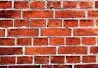brick: (54, 9, 87, 18), (40, 27, 73, 36), (21, 9, 53, 18), (58, 45, 88, 54), (6, 28, 39, 36), (72, 27, 98, 37), (24, 46, 56, 54), (1, 9, 21, 19), (1, 46, 23, 54), (65, 36, 81, 46), (82, 36, 98, 46), (48, 18, 63, 28), (15, 19, 31, 28), (63, 18, 79, 27), (79, 19, 96, 27), (16, 38, 33, 46), (1, 37, 16, 46), (63, 1, 79, 9), (31, 19, 47, 27), (33, 38, 49, 46), (1, 19, 14, 28), (14, 1, 30, 8), (80, 1, 94, 9), (49, 37, 65, 44), (31, 1, 46, 8), (47, 1, 62, 8), (1, 57, 16, 64), (17, 57, 32, 64), (34, 56, 49, 63), (51, 56, 65, 63), (82, 56, 96, 63), (1, 1, 13, 8), (66, 56, 80, 62)
